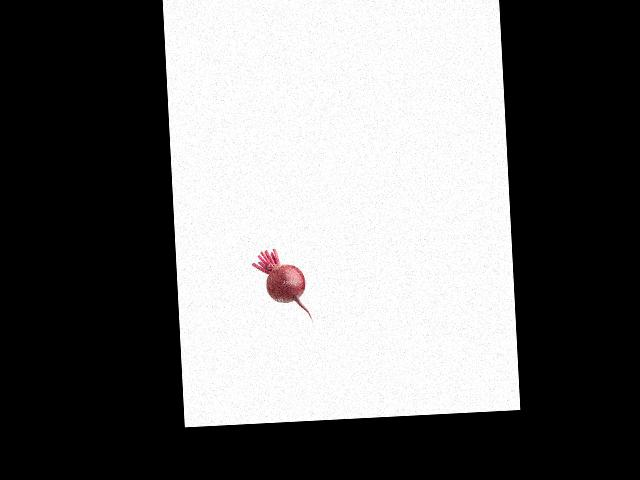beet: (250, 246, 312, 322)
